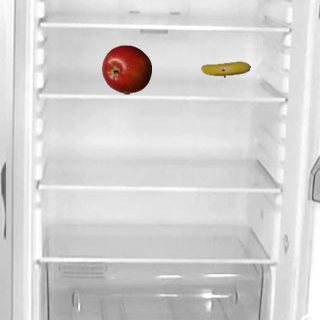Apple Braeburn: (101, 44, 151, 94)
Banana: (200, 44, 250, 94)
